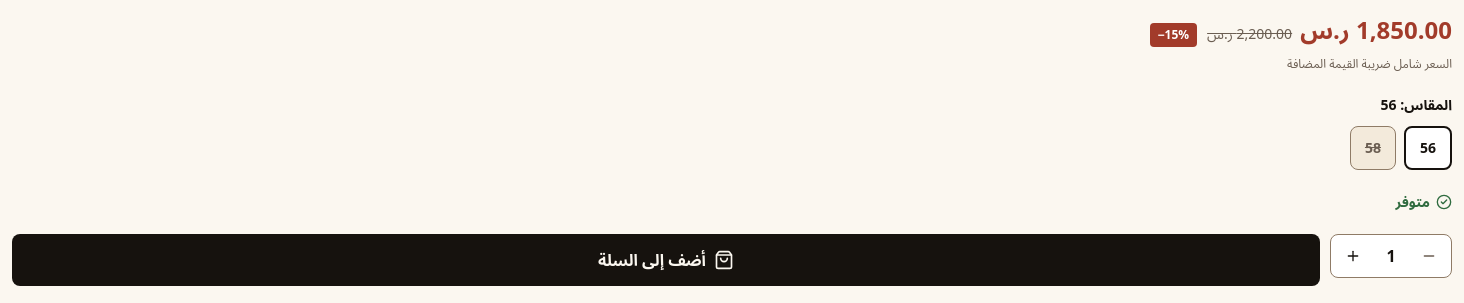
Test: ProductPurchase › shows the selected variant's price and changes it without a request; sold-out values are marked
The image size is (1464, 303).
Expected: the text "1,850.00" is shown, [1356, 13, 1452, 46]
Click the radio button labelled "58".
click(1373, 148)  # box [1350, 126, 1396, 170]
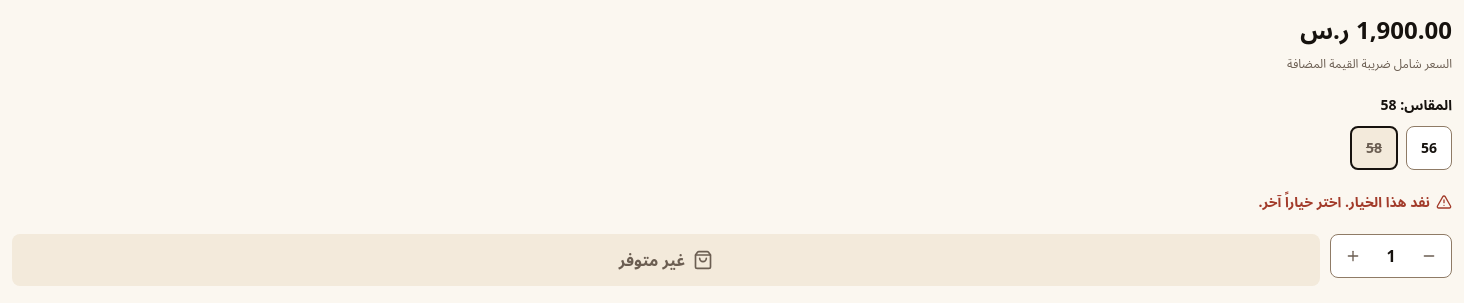
Now the text "1,900.00" is shown, box [1356, 13, 1452, 46]
Now the button "غير متوفر" is disabled, box [12, 234, 1320, 286]
